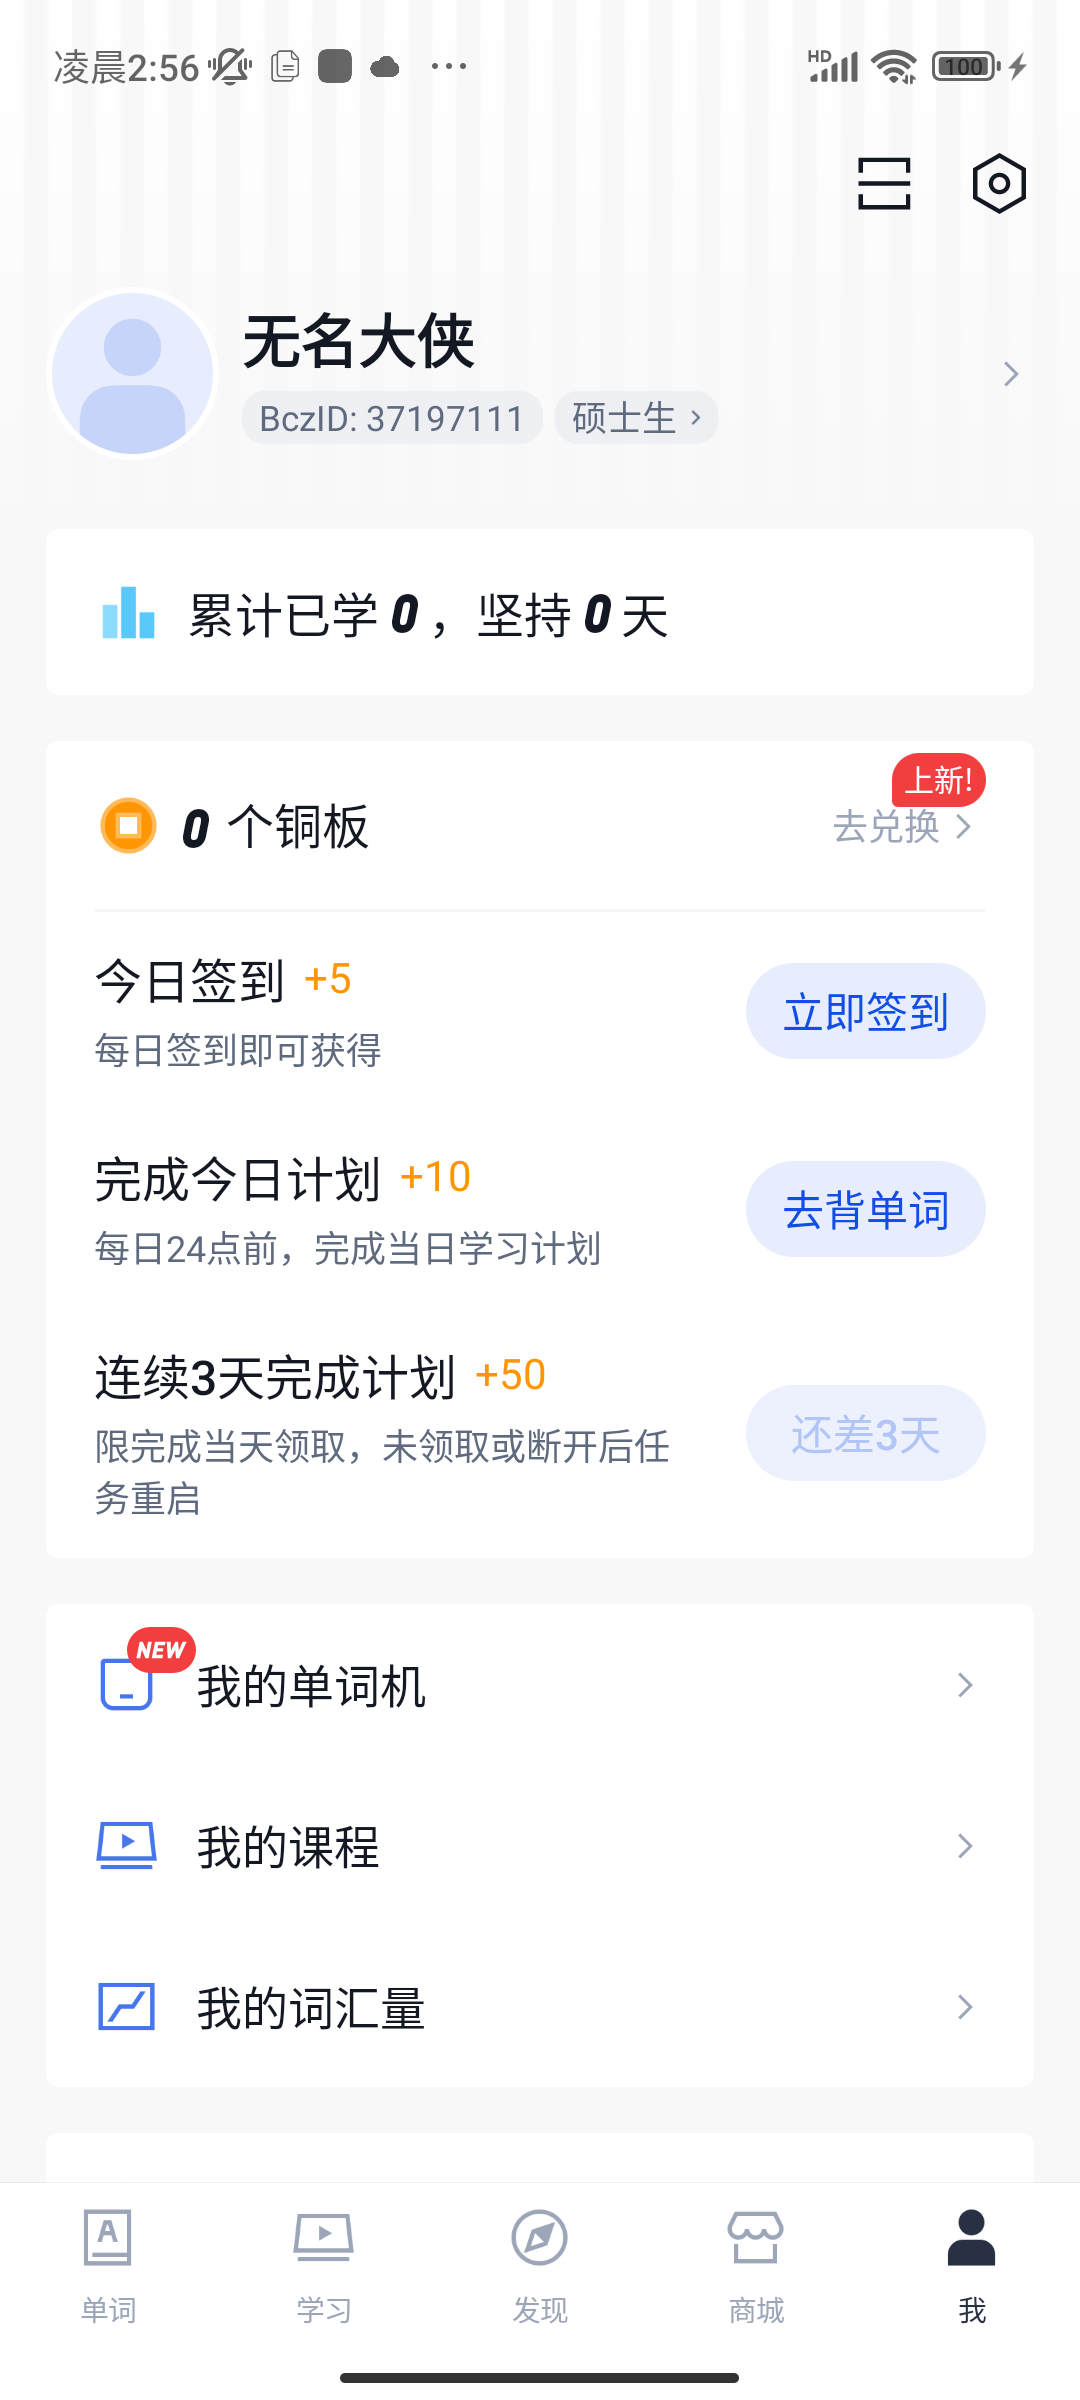ui_group: (44, 1338, 1033, 1558), (31, 897, 1030, 1093), (44, 1120, 1033, 1298), (55, 1607, 1036, 1766), (41, 1785, 1045, 1919), (60, 1947, 1023, 2057), (252, 2192, 399, 2366), (910, 2196, 1045, 2359), (702, 2193, 831, 2360), (486, 2190, 604, 2356), (60, 2192, 167, 2368)
